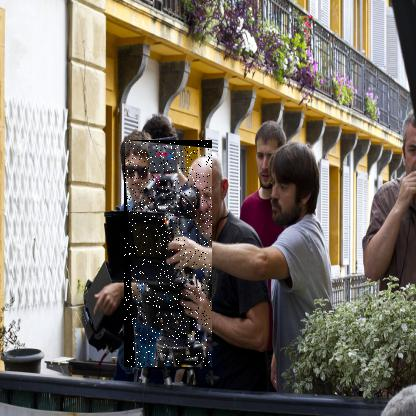Camera: (125, 142, 214, 370)
